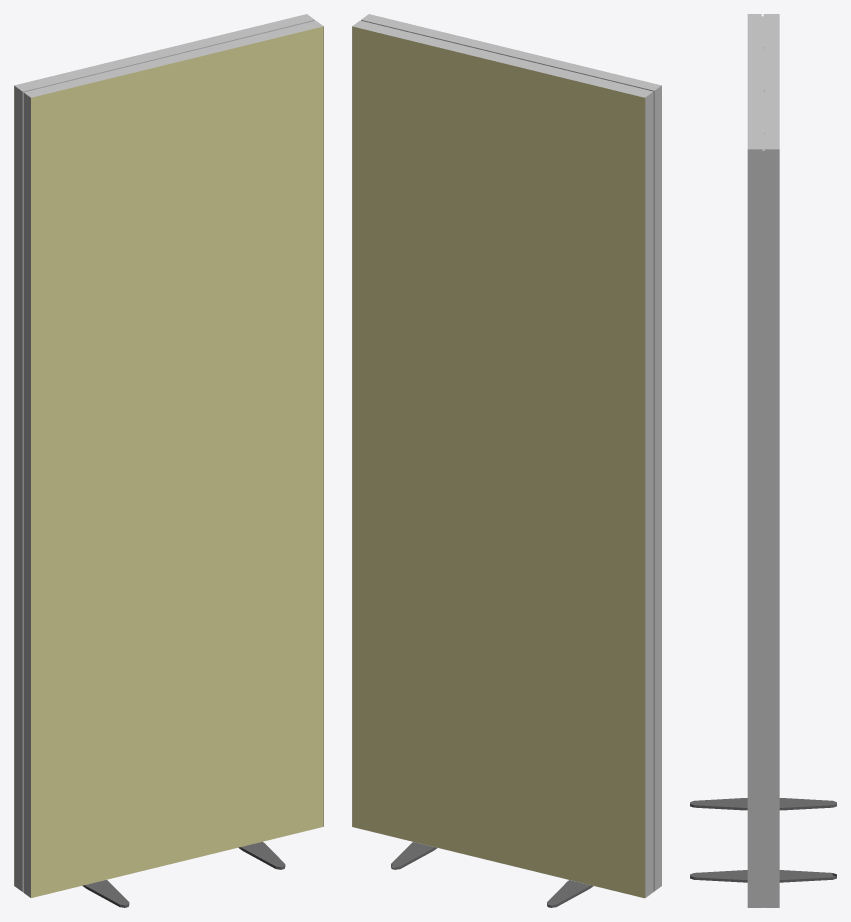
Rendered from seg_3ft.glb.
3 renders of one model, left to right at view 1: azimuth 30°, elevation 25°; view 2: azimuth 150°, elevation 25°; view 3: azimuth 270°, elevation 25°, orthographic. The views are drawn at different scales.
Parts seen in each view (by area): view 1: SEG 3ft; view 2: SEG 3ft; view 3: SEG 3ft.
Part boxes in pixels (x1,y1,x2,y2): SEG 3ft: [14, 14, 323, 907]; SEG 3ft: [352, 14, 661, 907]; SEG 3ft: [690, 14, 836, 907].
Size of the model in its own units: 0.9144 by 2.4 by 0.4191.
